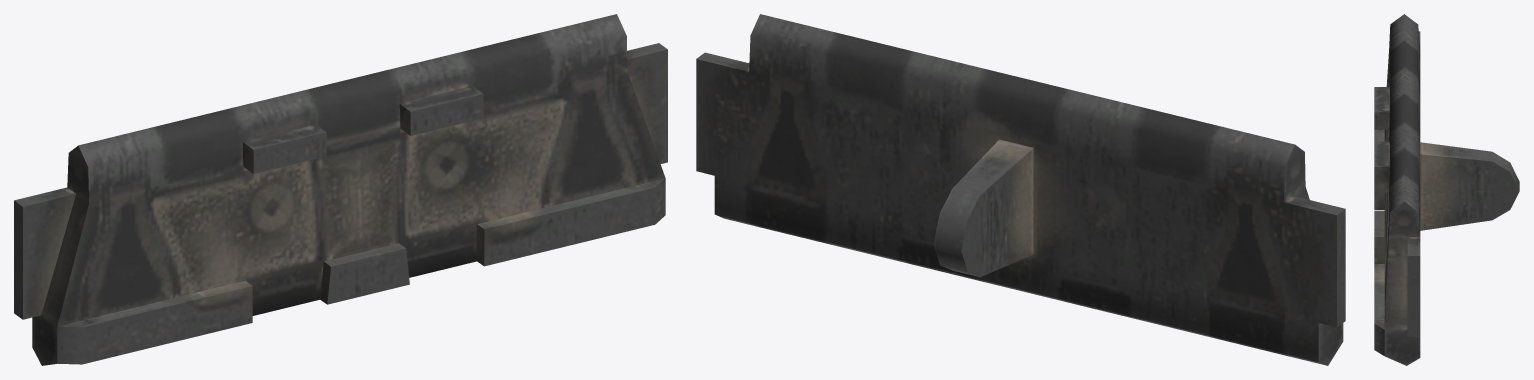
3 renders of one model, left to right at view 1: azimuth 30°, elevation 25°; view 2: azimuth 150°, elevation 25°; view 3: azimuth 270°, elevation 25°, orthographic. The views are drawn at different scales.
Visible parts, largest first — view 1: set_0_group_0; view 2: set_0_group_0; view 3: set_0_group_0.
Boxes of the visible parts, x1,y1,x2,y2 form: set_0_group_0: (14,14,667,365); set_0_group_0: (696,14,1345,365); set_0_group_0: (1374,14,1519,365).
Size of the model in its own units: 0.7003 by 0.2212 by 0.1914.
1 material, 1 textured.
